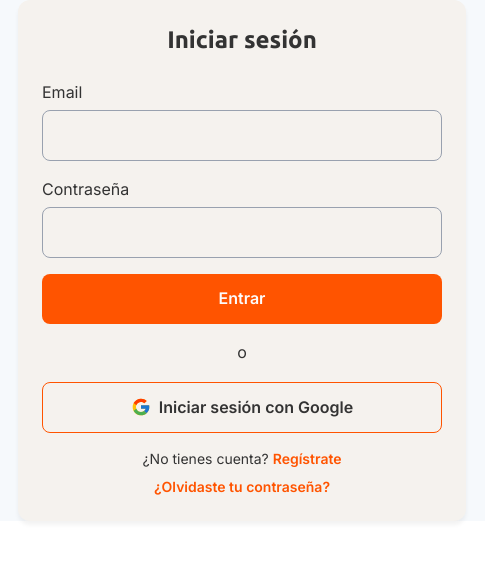
Test: LoginForm › shows error message on login failure
In the field labelled "Email": (242, 135) [42,110,442,161], type "test@example.com"
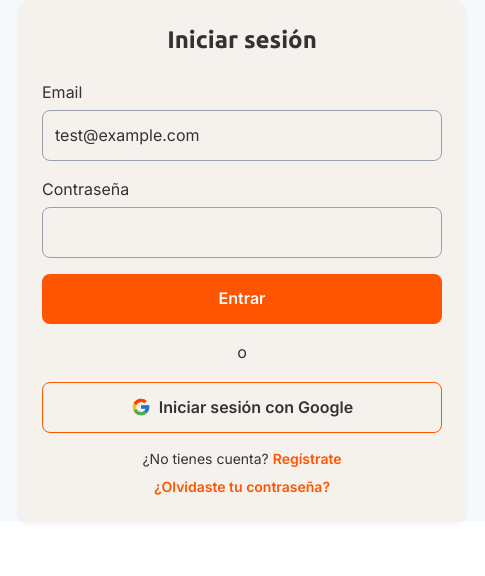
In the password field labelled "Contraseña": (242, 233) [42,207,442,258], type "wrongpassword"
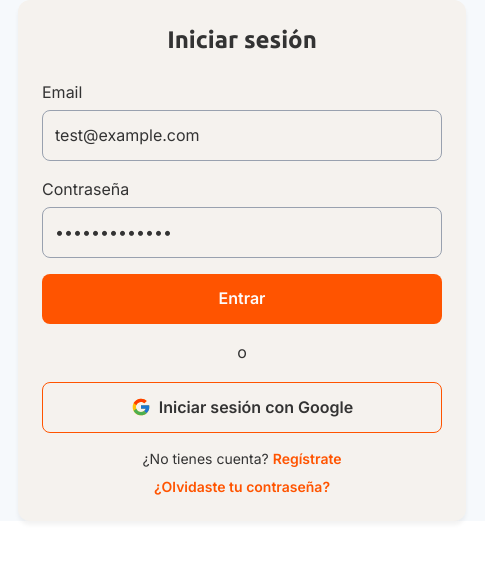
Click the button with aria-label "Iniciar sesión": click(242, 299) [42,274,442,324]
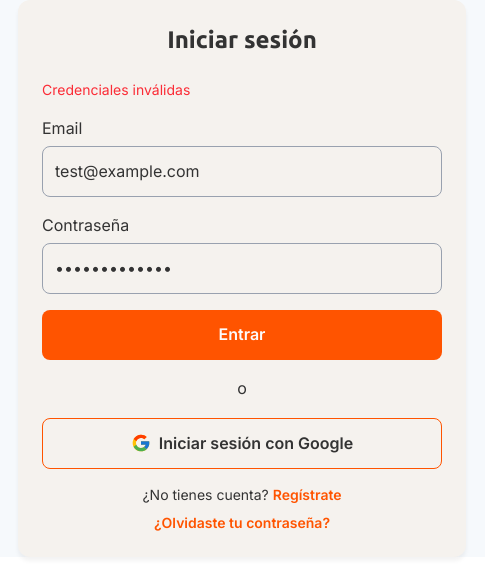
Expected: the text "Credenciales inválidas" is shown, [42,81,190,98]
